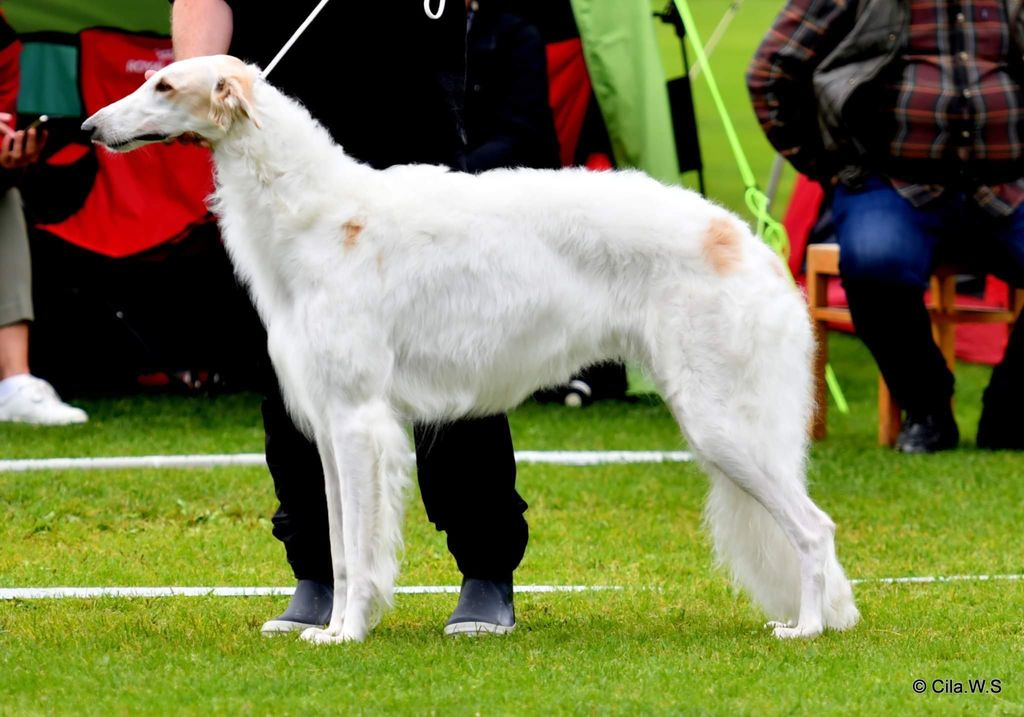borzoi: (59, 47, 878, 651)
